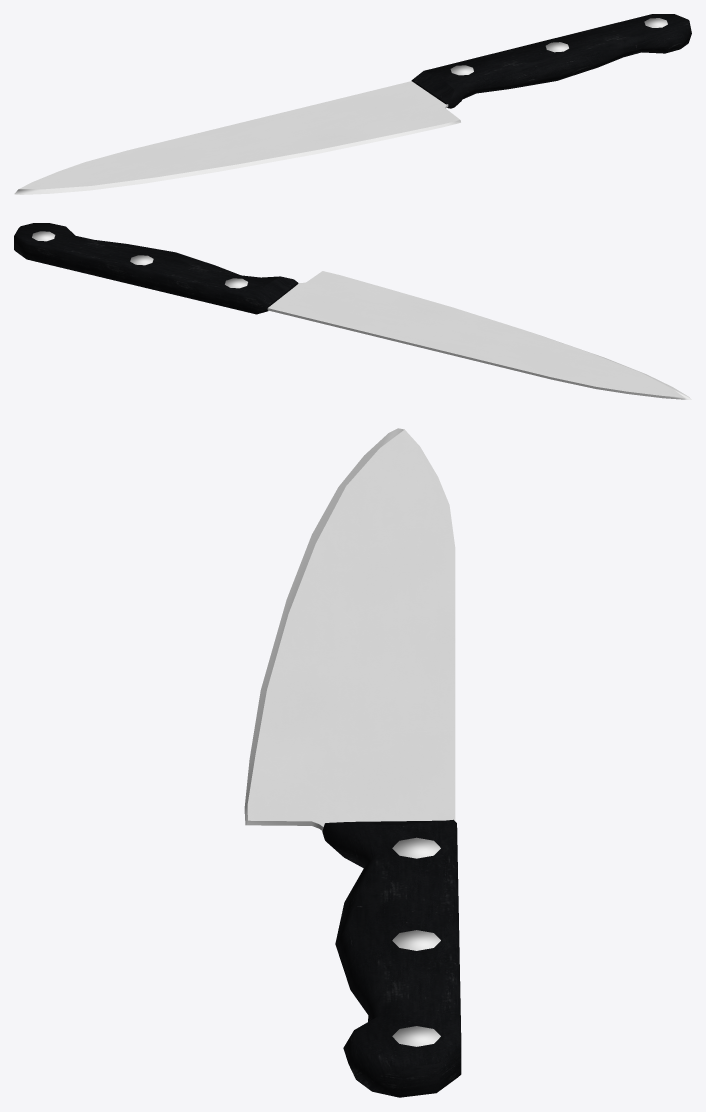
The model's file is Kitchen Knife.fbx.
The picture shows the model from 3 angles, top to bottom: view 1: azimuth 30°, elevation 25°; view 2: azimuth 150°, elevation 25°; view 3: azimuth 270°, elevation 25°; orthographic projection. The views are drawn at different scales.
Parts seen in each view (by area): view 1: Kitchen Knife; view 2: Kitchen Knife; view 3: Kitchen Knife.
Part boxes in pixels (left/top/right/bottom): Kitchen Knife: left=14, top=14, right=691, bottom=194; Kitchen Knife: left=14, top=223, right=691, bottom=399; Kitchen Knife: left=244, top=428, right=461, bottom=1097.
Bounding box in the file's own units: 94.95 × 2.38 × 13.26.
